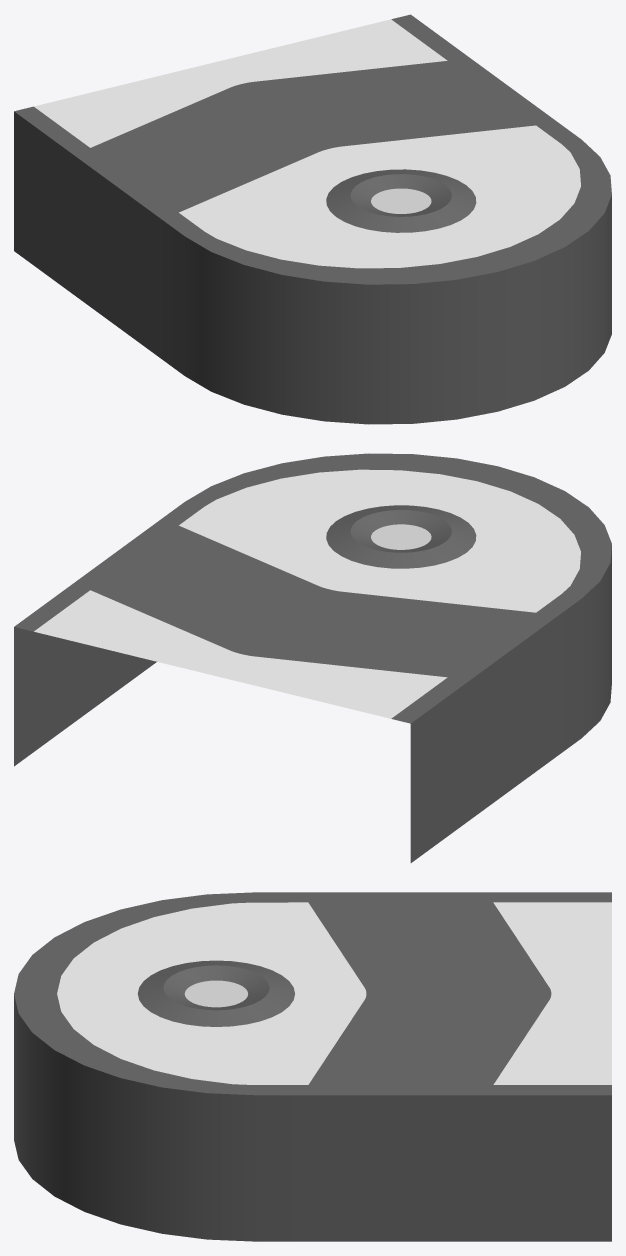
The model's file is start_platform.fbx.
3 renders of one model, top to bottom at view 1: azimuth 30°, elevation 25°; view 2: azimuth 150°, elevation 25°; view 3: azimuth 270°, elevation 25°, orthographic. The views are drawn at different scales.
Visible parts, largest first — view 1: Start Platform; view 2: Start Platform; view 3: Start Platform.
Part boxes in pixels (x1,y1,x2,y2): Start Platform: (14,14,611,424); Start Platform: (14,453,611,862); Start Platform: (14,892,611,1241).
Size of the model in its own units: 148 by 51.84 by 184.
